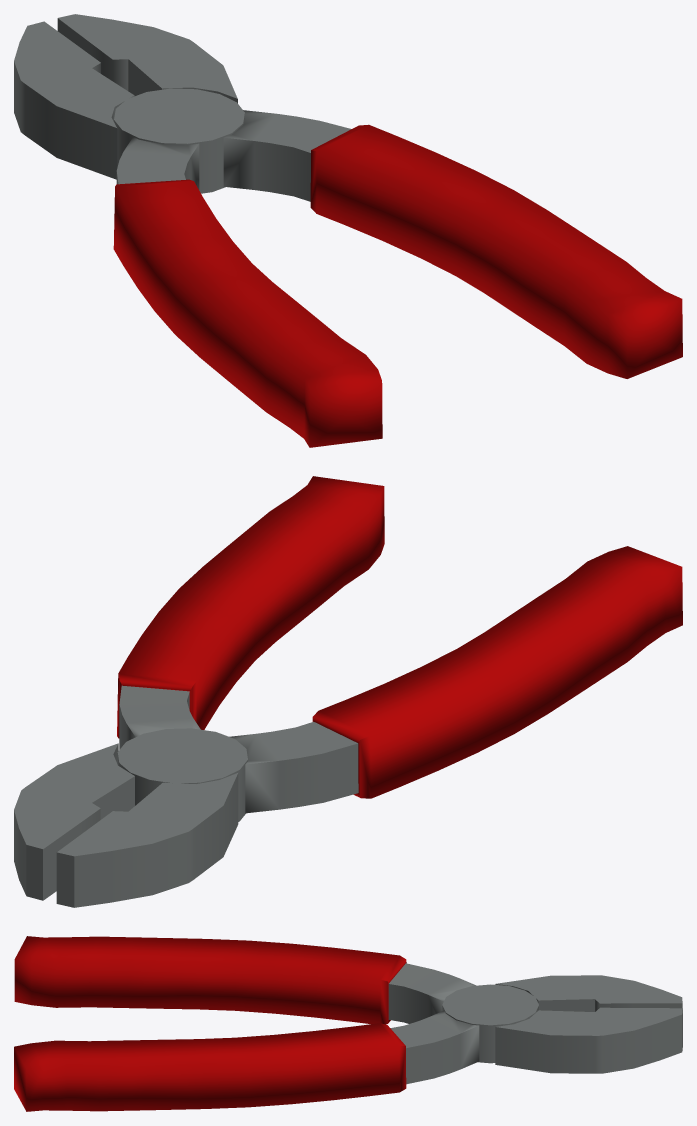
The model's file is sm_LPpliers_1.fbx.
3 views of the same model, one above another, from view 1: azimuth 30°, elevation 25°; view 2: azimuth 150°, elevation 25°; view 3: azimuth 270°, elevation 25° (orthographic). The views are drawn at different scales.
Visible parts, largest first — view 1: LowPoly; view 2: LowPoly; view 3: LowPoly.
Boxes of the visible parts, x1,y1,x2,y2 form: LowPoly: (14,14,682,447); LowPoly: (14,476,682,907); LowPoly: (14,936,682,1111).
Bounding box in the file's own units: 3.07 × 0.4989 × 6.51.
